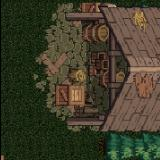Hide: (11, 46, 78, 115)
Obstacle: (30, 0, 160, 133), (0, 133, 160, 160)
